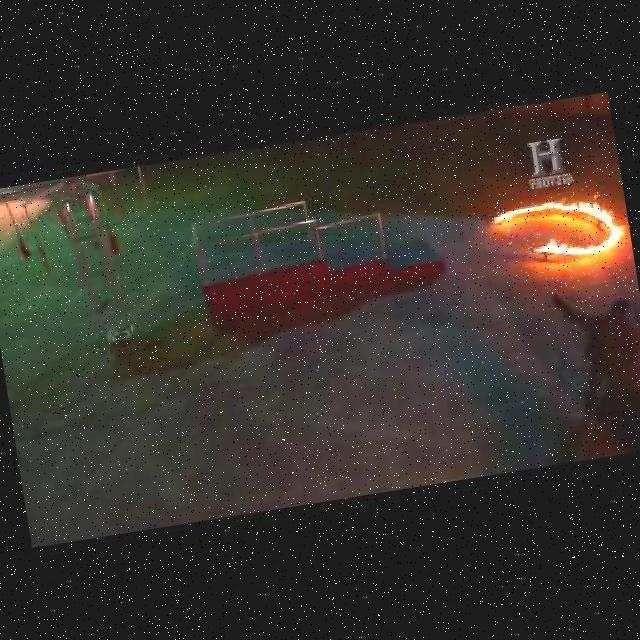Fire: (493, 186, 627, 267)
